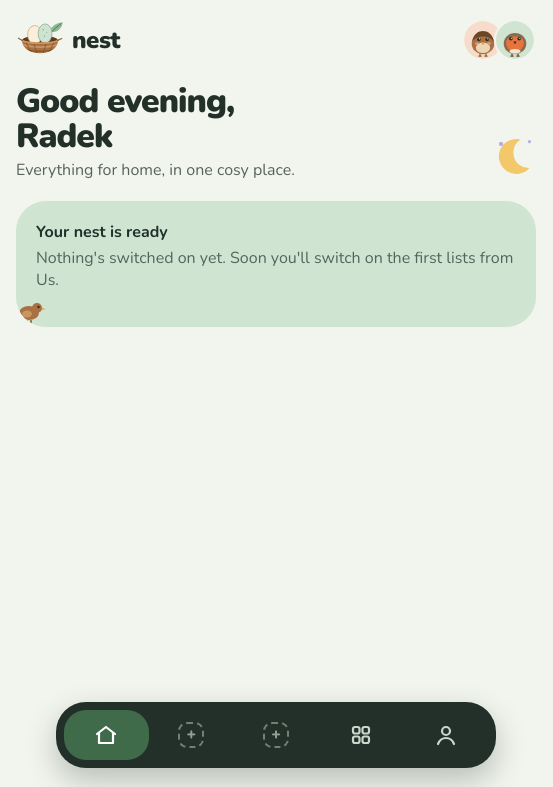
Test: us › pick a bird
Step 1. Click the button named "Us" → (446, 735), box left=403, top=710, right=488, bottom=760
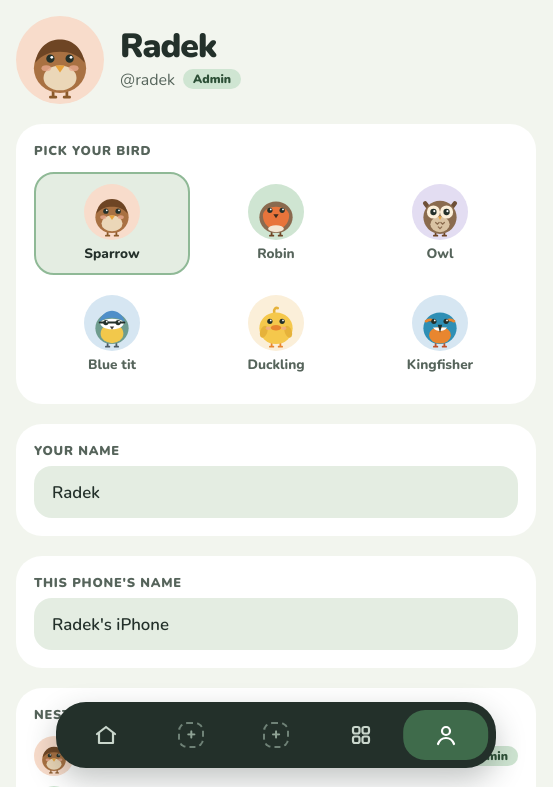
Now the element named "Your bird" is shown, box left=34, top=172, right=518, bottom=386
Step 2. Click the radio button labelled "Owl" → (440, 224), box left=362, top=172, right=518, bottom=275
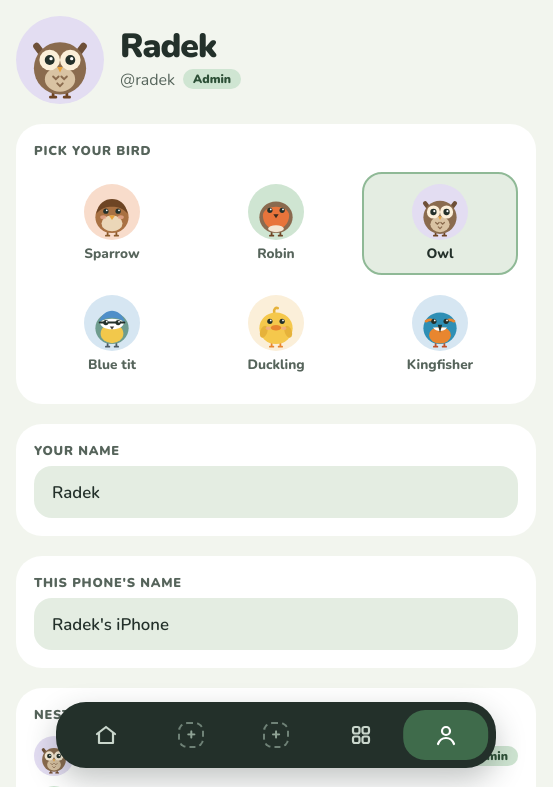
Now the radio button labelled "Owl" is checked, box left=362, top=172, right=518, bottom=275
